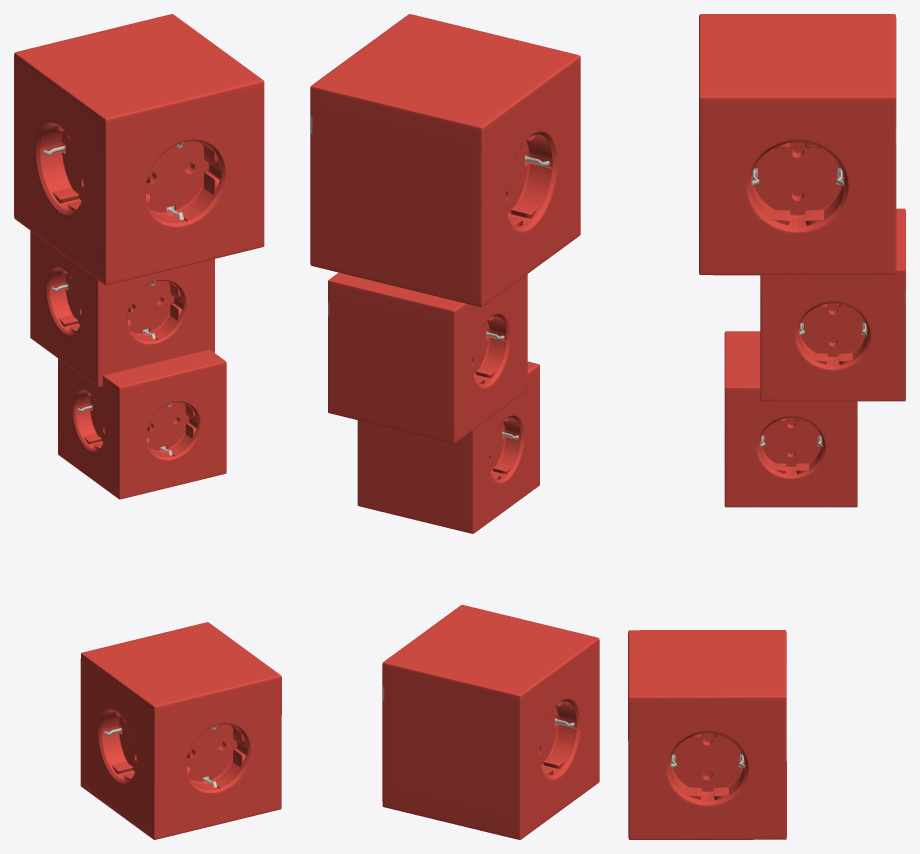
Rendered from Blend--60fps-light009.glb.
3 views of the same model, side by side, from view 1: azimuth 30°, elevation 25°; view 2: azimuth 150°, elevation 25°; view 3: azimuth 270°, elevation 25° (orthographic). The views are drawn at different scales.
Visible parts, largest first — view 1: box03, box01, box04, box02; view 2: box03, box01, box02, box04; view 3: box03, box01, box02, box04.
Part boxes in pixels (x1=…): box03: x1=14, y1=14, x2=264, y2=285; box01: x1=80, y1=622, x2=281, y2=839; box04: x1=58, y1=349, x2=226, y2=499; box02: x1=30, y1=230, x2=214, y2=387; box03: x1=310, y1=14, x2=580, y2=306; box01: x1=382, y1=605, x2=599, y2=839; box02: x1=328, y1=272, x2=527, y2=443; box04: x1=357, y1=361, x2=539, y2=533; box03: x1=699, y1=14, x2=896, y2=275; box01: x1=628, y1=630, x2=786, y2=839; box02: x1=760, y1=208, x2=905, y2=401; box04: x1=724, y1=331, x2=857, y2=507.
Size of the model in its own units: 0.1779 by 0.7465 by 0.2501.
8 materials, 8 textured.
